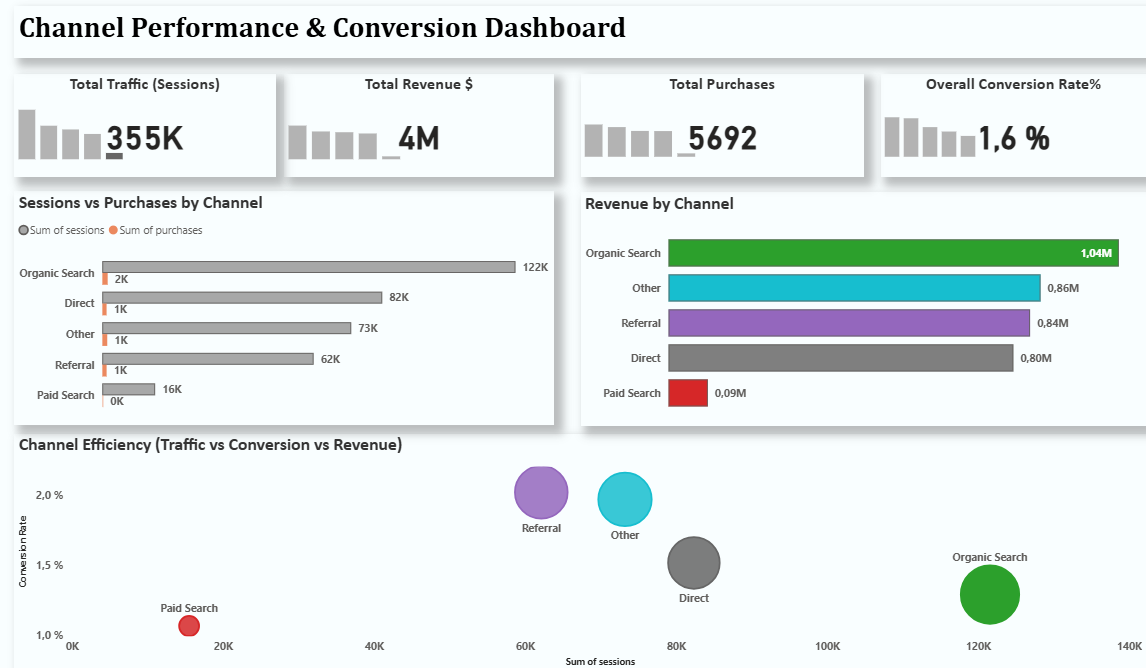

This screenshot's page, from the dashboard's own definition file:
{"tool":"powerbi","page":{"name":"Page 1","canvas":[1321,800],"ordinal":0},"visuals":[{"type":"card","title":"Total Traffic (Sessions)","fields":{"Values":["Sum(channel_summary.sessions)"]},"box":[18.4,107.6,296,117.5],"z":0},{"type":"clusteredBarChart","title":"Sessions vs Purchases by Channel","fields":{"Category":["channel_summary.channel_group"],"Y":["Sum(channel_summary.sessions)","Sum(channel_summary.purchases)"]},"box":[18.4,243.6,611.8,264.8],"z":1000},{"type":"clusteredBarChart","title":"Revenue by Channel","fields":{"Category":["channel_summary.channel_group"],"Y":["Sum(channel_summary.revenue)"]},"box":[659.9,243.6,641.5,264.8],"z":2000},{"type":"scatterChart","title":"Channel Efficiency (Traffic vs Conversion vs Revenue)","fields":{"Category":["channel_summary.channel_group"],"X":["Sum(channel_summary.sessions)"],"Size":["Sum(channel_summary.revenue)"],"Y":["channel_summary.Conversion Rate"],"Series":["channel_summary.channel_group"]},"box":[18.4,519.7,1283.1,267.7],"z":3000},{"type":"card","title":"Total Revenue $","fields":{"Values":["Sum(channel_summary.revenue)"]},"box":[324.3,107.6,305.9,117.5],"z":4000},{"type":"card","title":"Total Purchases","fields":{"Values":["channel_summary.Total Purchases"]},"box":[659.9,107.6,321.5,117.5],"z":5000},{"type":"card","title":"Overall Conversion Rate%","fields":{"Values":["channel_summary.Conversion Rate"]},"box":[999.8,107.6,301.6,117.5],"z":6000},{"type":"textbox","box":[18.4,26.9,1283.1,69.4],"z":7000},{"type":"clusteredColumnChart","title":"Total Traffic (Sessions)","fields":{"Y":["Sum(channel_summary.sessions)"],"Category":["channel_summary.channel_group"]},"box":[18.4,136,128.9,89.2],"z":8000},{"type":"columnChart","title":"Total Revenue $","fields":{"Category":["channel_summary.channel_group"],"Y":["Sum(channel_summary.revenue)"]},"box":[324.3,150.1,137.4,75.1],"z":9000},{"type":"clusteredColumnChart","title":"Total Purchases","fields":{"Category":["channel_summary.channel_group"],"Y":["channel_summary.Total Purchases"]},"box":[659.9,155.8,136,66.6],"z":10000},{"type":"columnChart","title":"Overall Conversion Rate%","fields":{"Category":["channel_summary.channel_group"],"Y":["channel_summary.Conversion Rate"]},"box":[999.8,136,113.3,86.4],"z":11000}]}

Visuals, with their boxes on the page's 1321x800 design canvas (x1, y1, x2, y2). These are canvas units, not pixel positions in the 1146x668 screenshot, which may show the page scaled, cropped or inside an application window:
"Total Traffic (Sessions)" card: box(18, 108, 314, 225)
"Sessions vs Purchases by Channel" clusteredBarChart: box(18, 244, 630, 508)
"Revenue by Channel" clusteredBarChart: box(660, 244, 1301, 508)
"Channel Efficiency (Traffic vs Conversion vs Revenue)" scatterChart: box(18, 520, 1302, 787)
"Total Revenue $" card: box(324, 108, 630, 225)
"Total Purchases" card: box(660, 108, 981, 225)
"Overall Conversion Rate%" card: box(1000, 108, 1301, 225)
textbox: box(18, 27, 1302, 96)
"Total Traffic (Sessions)" clusteredColumnChart: box(18, 136, 147, 225)
"Total Revenue $" columnChart: box(324, 150, 462, 225)
"Total Purchases" clusteredColumnChart: box(660, 156, 796, 222)
"Overall Conversion Rate%" columnChart: box(1000, 136, 1113, 222)
